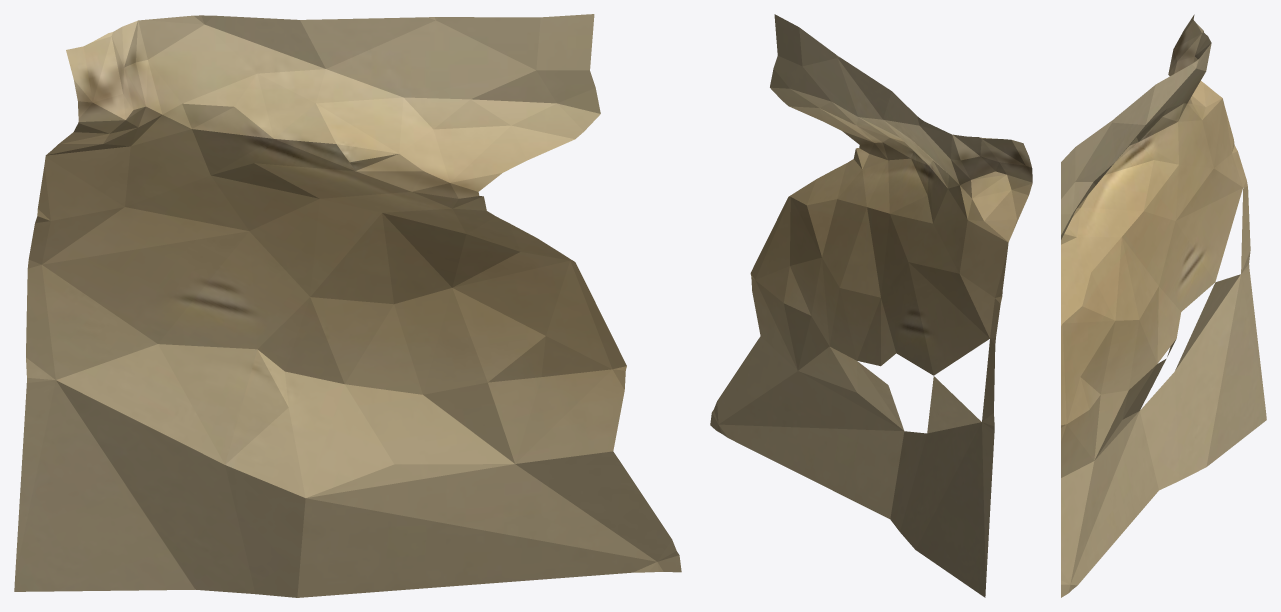
The picture shows the model from 3 angles, left to right: view 1: azimuth 30°, elevation 25°; view 2: azimuth 150°, elevation 25°; view 3: azimuth 270°, elevation 25°; orthographic projection. The views are drawn at different scales.
Bounding box in the file's own units: 0.7868 × 0.8374 × 0.3845.
Materials: 3 (3 with a texture image).
